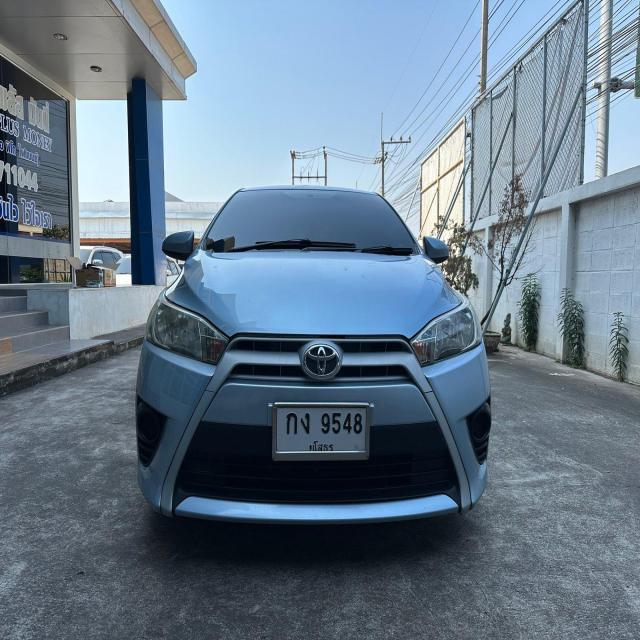Hatchback: (135, 186, 491, 524)
